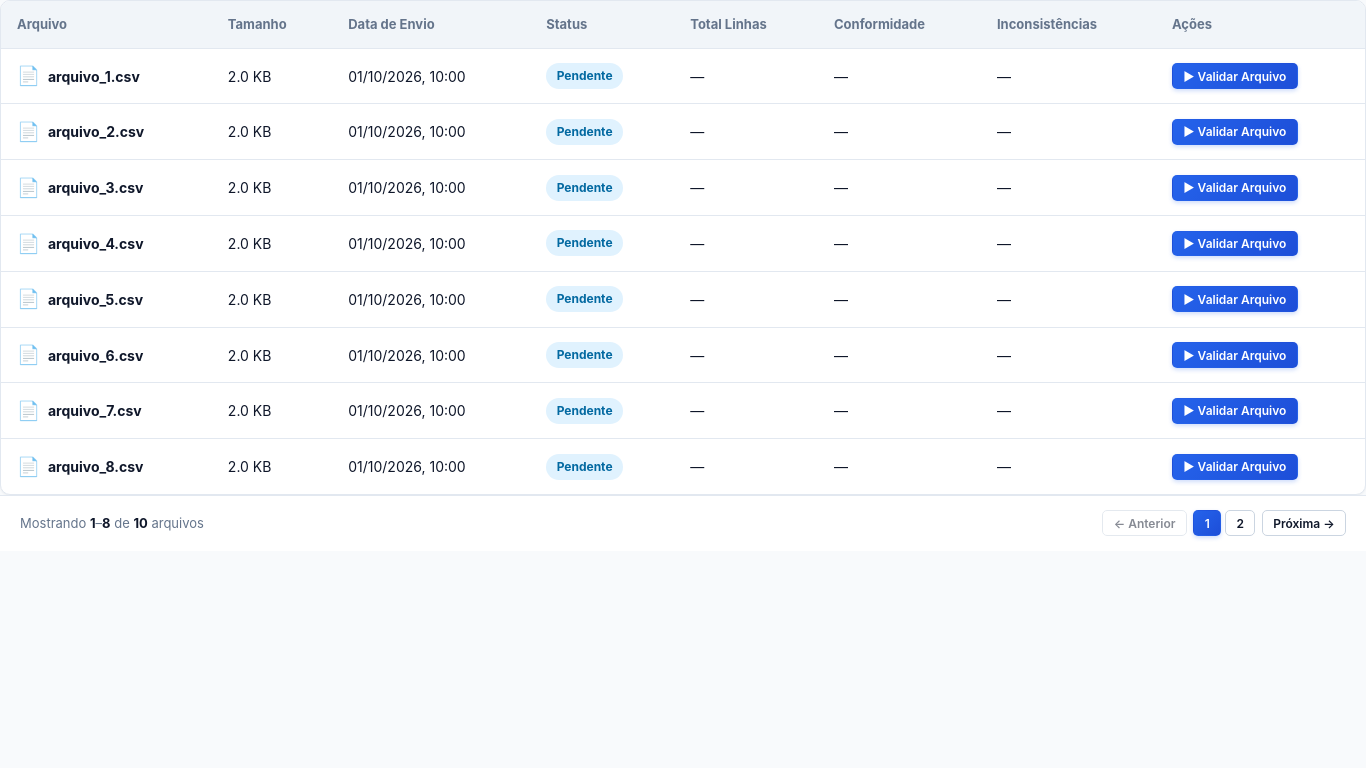
Test: FileList › pagina em blocos de 8 arquivos e navega para a próxima página
Expected: the text "arquivo_1.csv" is shown, top-left (48, 66), bottom-right (140, 87)
Expected: the text "arquivo_9.csv" is not shown
Click the button "Próxima →" at [1304, 523], box top-left (1262, 510), bottom-right (1346, 536)
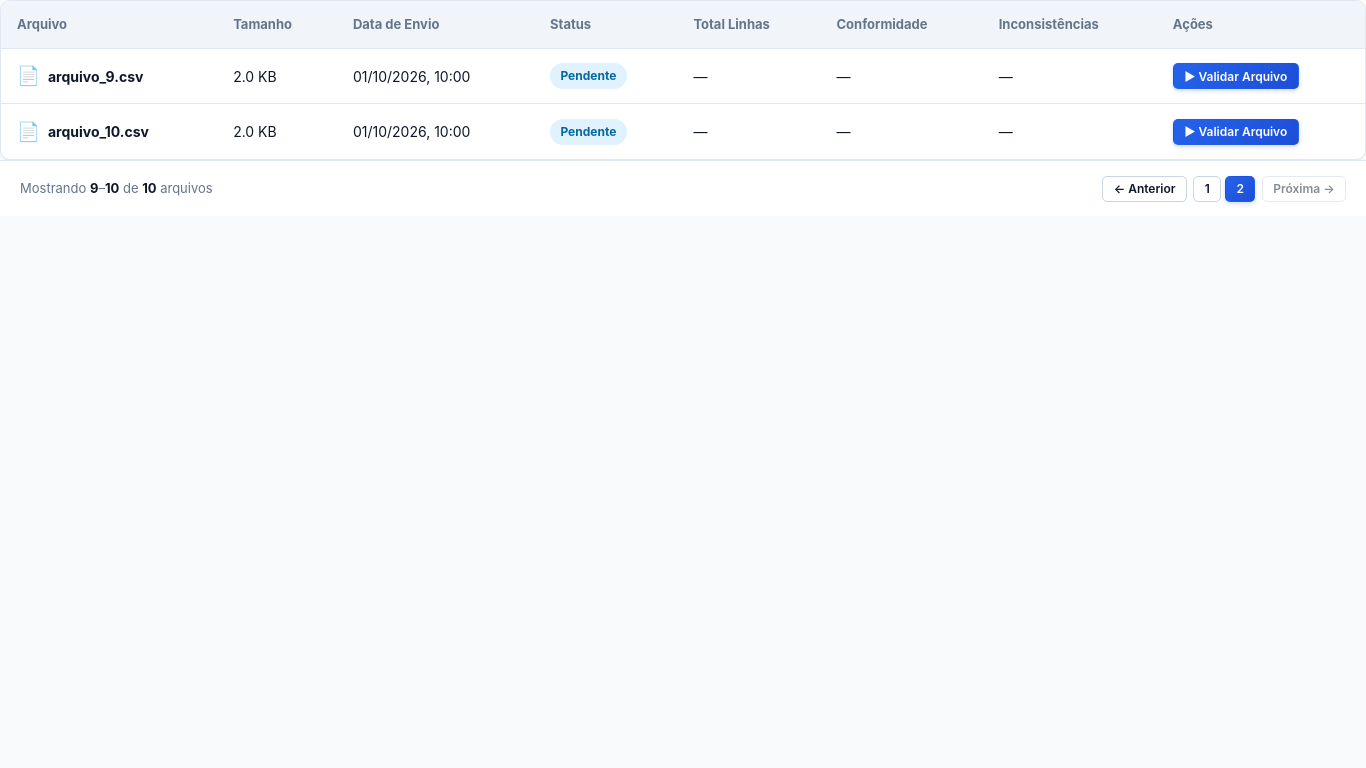
Expected: the text "arquivo_9.csv" is shown, top-left (48, 66), bottom-right (143, 87)
Expected: the text "arquivo_1.csv" is gone
